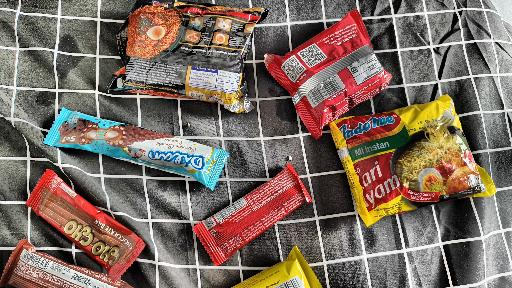chocho: (188, 150, 317, 264), (24, 163, 149, 280)
dilan: (51, 99, 236, 196)
indomie: (321, 92, 487, 239)
mie sedap: (107, 0, 273, 107)
momotaro: (281, 4, 375, 153)
